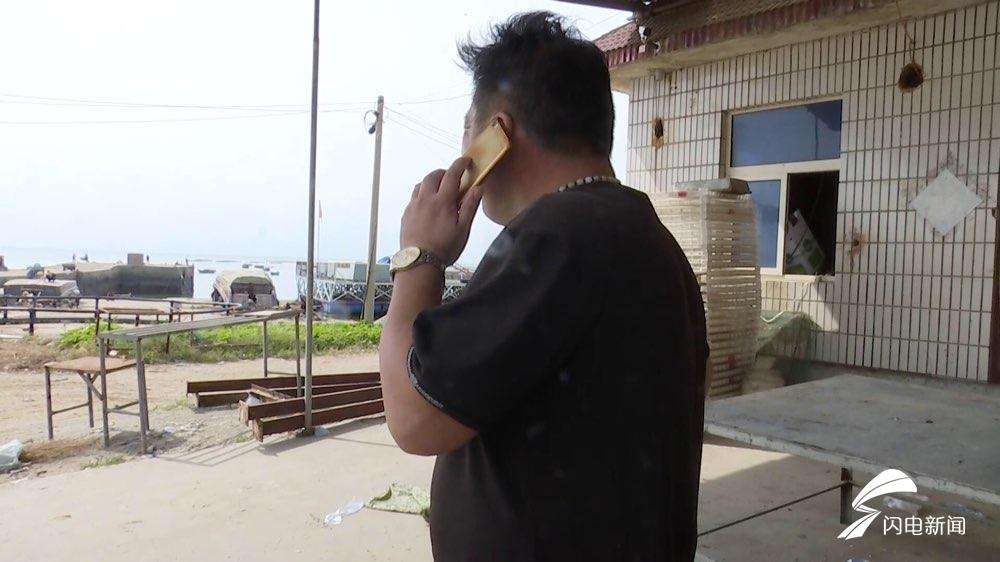calling: (397, 116, 511, 258)
